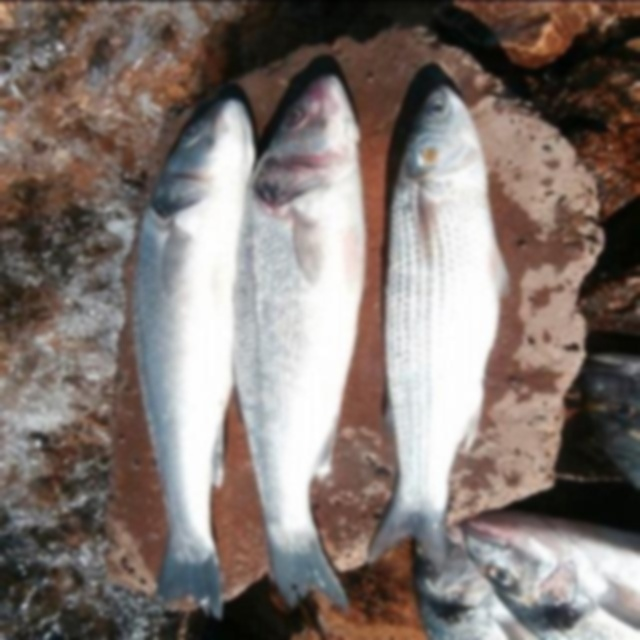Healthy Fish: (367, 73, 507, 587), (113, 75, 245, 607), (236, 85, 369, 603), (402, 497, 638, 639)
